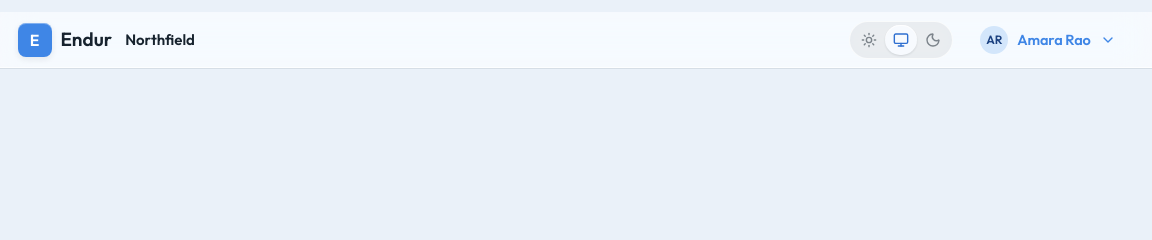
Scenario: TopBar › shows the user by initials and offers sign out
Check: the text "AR" is shown, box [980,26,1008,54]
Click the text "Amara Rao": (1054, 40) [1017,31,1091,48]
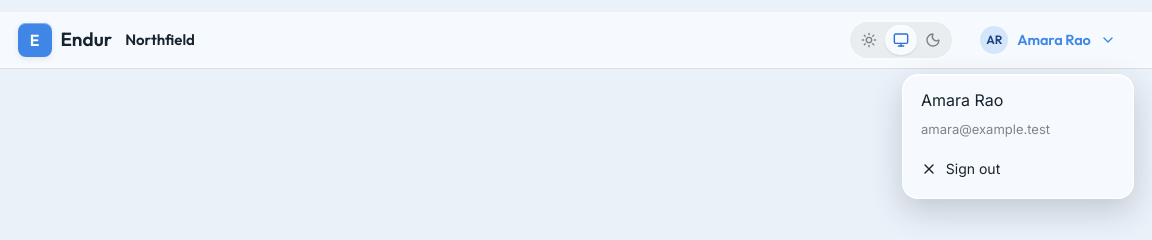
Check: the text "Sign out" is shown, box [946,158,1000,180]
